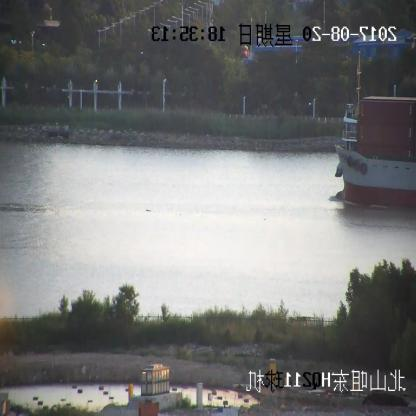Container Ship: (335, 93, 415, 211)
